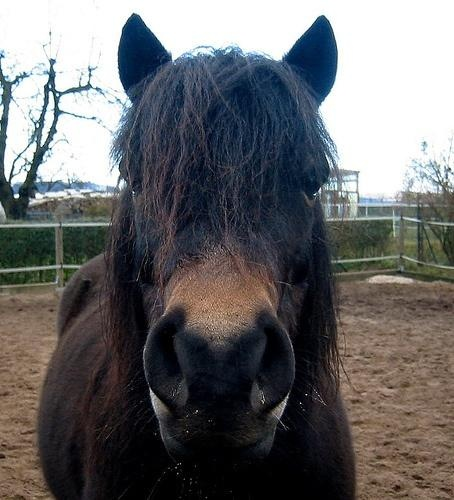horse: (38, 12, 364, 497)
